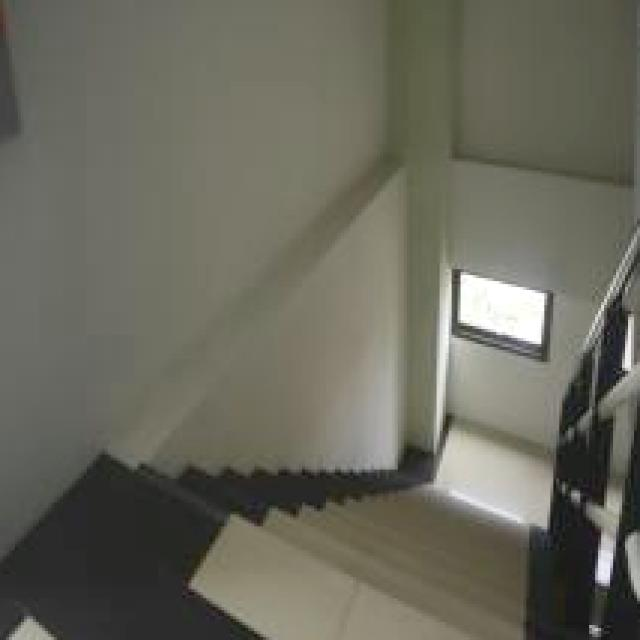downstair: (192, 467, 572, 640)
